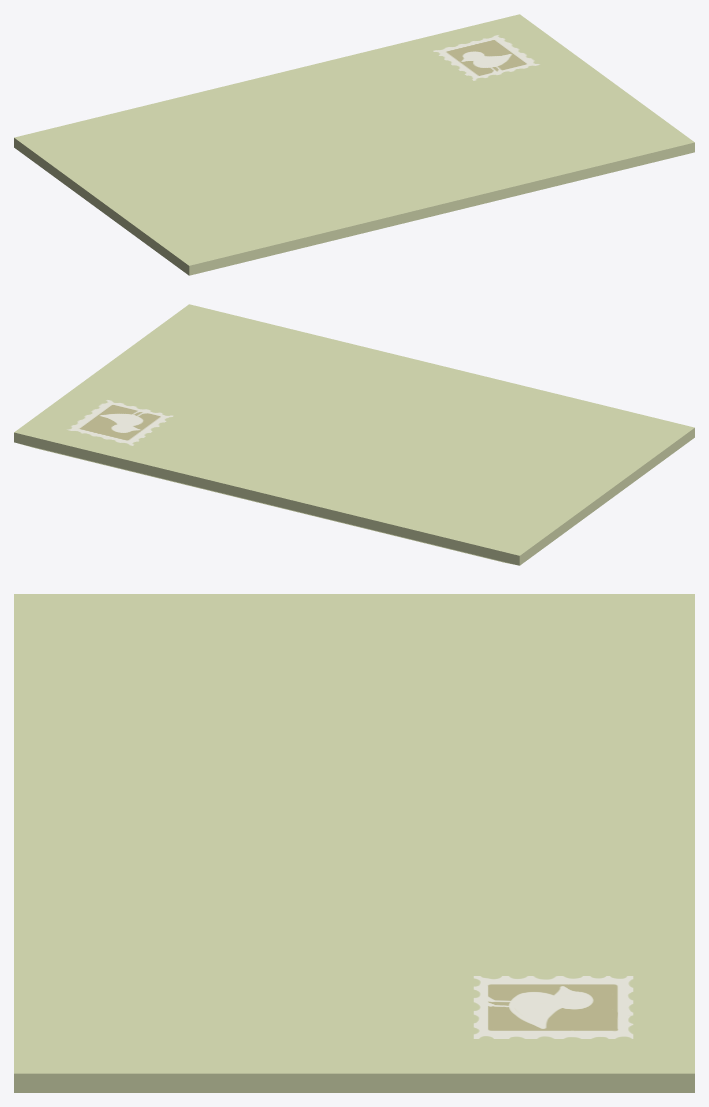
Rendered from Carta.FBX.
3 renders of one model, top to bottom at view 1: azimuth 30°, elevation 25°; view 2: azimuth 150°, elevation 25°; view 3: azimuth 270°, elevation 25°, orthographic. The views are drawn at different scales.
Visible parts, largest first — view 1: Box002; view 2: Box002; view 3: Box002.
Part boxes in pixels (left/top/right/bottom): Box002: left=14, top=14, right=694, bottom=275; Box002: left=14, top=304, right=694, bottom=565; Box002: left=14, top=594, right=694, bottom=1092.
Bounding box in the file's own units: 100 × 2.55 × 60.
